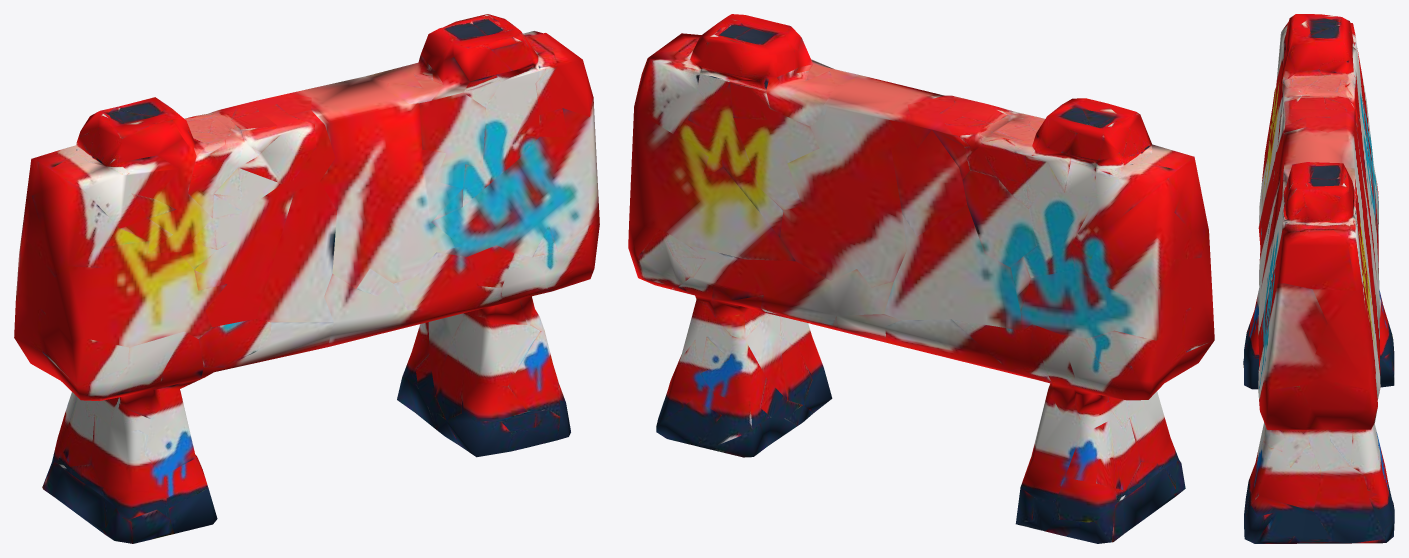
Rendered from barrier_road.glb.
3 renders of one model, left to right at view 1: azimuth 30°, elevation 25°; view 2: azimuth 150°, elevation 25°; view 3: azimuth 270°, elevation 25°, orthographic. The views are drawn at different scales.
Bounding box in the file's own units: 1.9 × 1.32 × 0.5271.
1 material, 1 textured.
